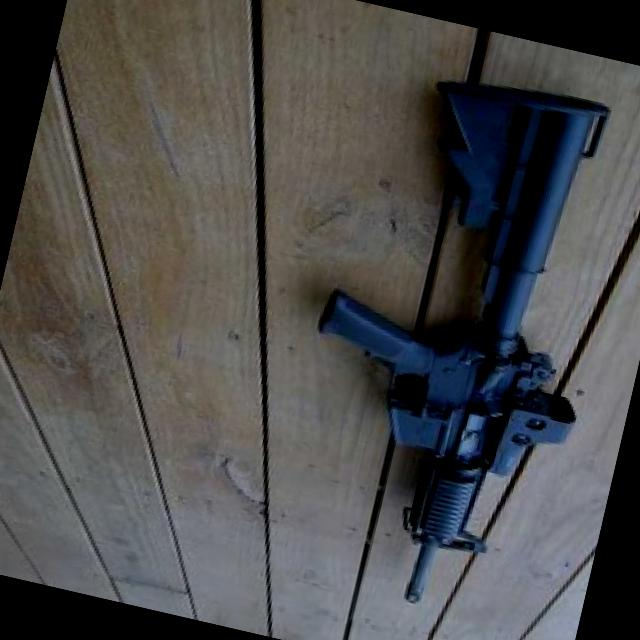long weapon: (291, 21, 619, 639)
